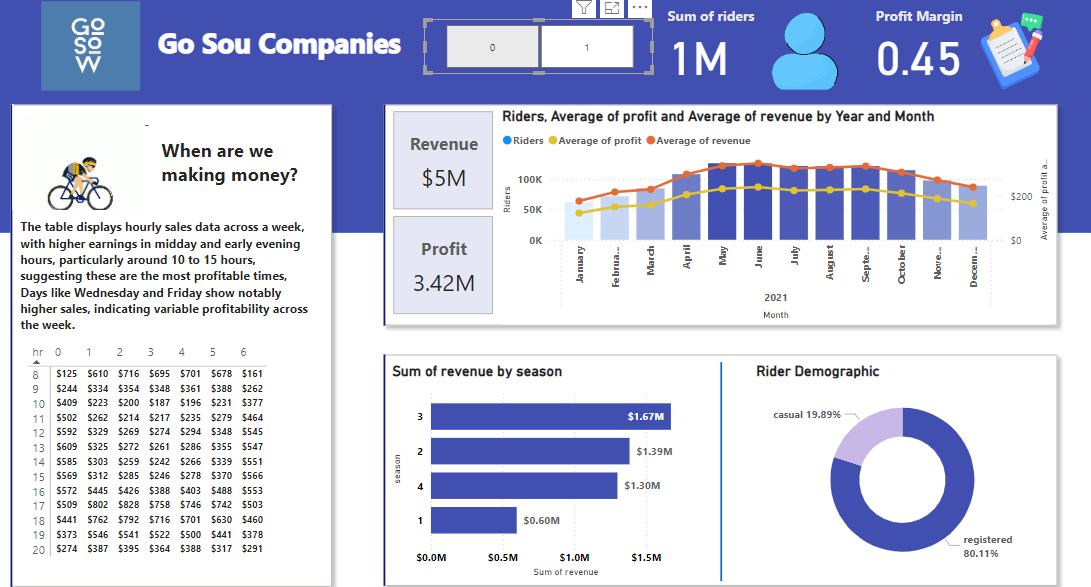

The page's visual inventory and layout, read from the dashboard file:
{"tool":"powerbi","page":{"name":"Page 1","canvas":[1280,720],"ordinal":0},"visuals":[{"type":"shape","box":[0,0,1280,280],"z":0},{"type":"cardVisual","fields":{"Data":["Min(Query2.riders)"]},"box":[0,113.8,408.8,595],"z":1000},{"type":"cardVisual","fields":{"Data":["Min(Query2.riders)"]},"box":[433.8,113.8,818.8,291.2],"z":2000},{"type":"cardVisual","fields":{"Data":["Min(Query2.riders)"]},"box":[433.8,405,818.8,303.8],"z":3000},{"type":"cardVisual","fields":{"Data":["Min(Query2.riders)"]},"box":[13.8,126.2,191.2,133.8],"z":4000},{"type":"pivotTable","fields":{"Values":["Avg(Query2.revenue)"],"Columns":["Query2.weekday"],"Rows":["Query2.hr"]},"box":[32.5,405,335,260],"z":5000},{"type":"textbox","box":[187.5,163.8,196.2,95],"z":6000},{"type":"textbox","box":[23.8,258.8,351.2,146.2],"z":7000},{"type":"lineClusteredColumnComboChart","fields":{"Category":["Query2.dteday.Variation.Date Hierarchy.Year","Query2.dteday.Variation.Date Hierarchy.Month"],"Y":["Sum(Query2.riders)"],"Y2":["Avg(Query2.profit)","Avg(Query2.revenue)"]},"box":[583.8,133.8,646.2,252.5],"z":8000},{"type":"clusteredBarChart","fields":{"Category":["Query2.season"],"Y":["Sum(Query2.revenue)"]},"box":[456.2,430,387.5,255],"z":9000},{"type":"donutChart","title":"Rider Demographic","fields":{"Category":["Query2.rider_type"],"Y":["Sum(Query2.riders)"]},"box":[880,430,350,255],"z":10000},{"type":"shape","box":[806.2,430,75,255],"z":11000},{"type":"cardVisual","fields":{"Data":["Sum(Query2.revenue)","Sum(Query2.profit)"]},"box":[457.5,133.8,126.2,246.2],"z":12000},{"type":"cardVisual","fields":{"Data":["Sum(Query2.riders)","Query2.Profit Margin"]},"box":[765,0,487.5,126.2],"z":13000},{"type":"image","box":[47.5,6.2,125,113.8],"z":13002},{"type":"textbox","box":[172.5,31.2,315,63.8],"z":13003},{"type":"slicer","fields":{"Values":["Query2.yr"]},"box":[497.5,31.2,267.5,63.8],"z":13004}]}

Visuals, with their boxes on the page's 1280x720 design canvas (x1, y1, x2, y2). These are canvas units, not pixel positions in the 1091x587 screenshot, which may show the page scaled, cropped or inside an application window:
shape: 0/0/1280/280
cardVisual - Min(Query2.riders): 0/114/409/709
cardVisual - Min(Query2.riders): 434/114/1253/405
cardVisual - Min(Query2.riders): 434/405/1253/709
cardVisual - Min(Query2.riders): 14/126/205/260
pivotTable - Avg(Query2.revenue) x Query2.weekday: 32/405/368/665
textbox: 188/164/384/259
textbox: 24/259/375/405
lineClusteredColumnComboChart - Query2.dteday.Variation.Date Hierarchy.Year x Query2.dteday.Variation.Date Hierarchy.Month: 584/134/1230/386
clusteredBarChart - Query2.season x Sum(Query2.revenue): 456/430/844/685
"Rider Demographic" donutChart: 880/430/1230/685
shape: 806/430/881/685
cardVisual - Sum(Query2.revenue) x Sum(Query2.profit): 458/134/584/380
cardVisual - Sum(Query2.riders) x Query2.Profit Margin: 765/0/1252/126
image: 48/6/172/120
textbox: 172/31/488/95
slicer - Query2.yr: 498/31/765/95
